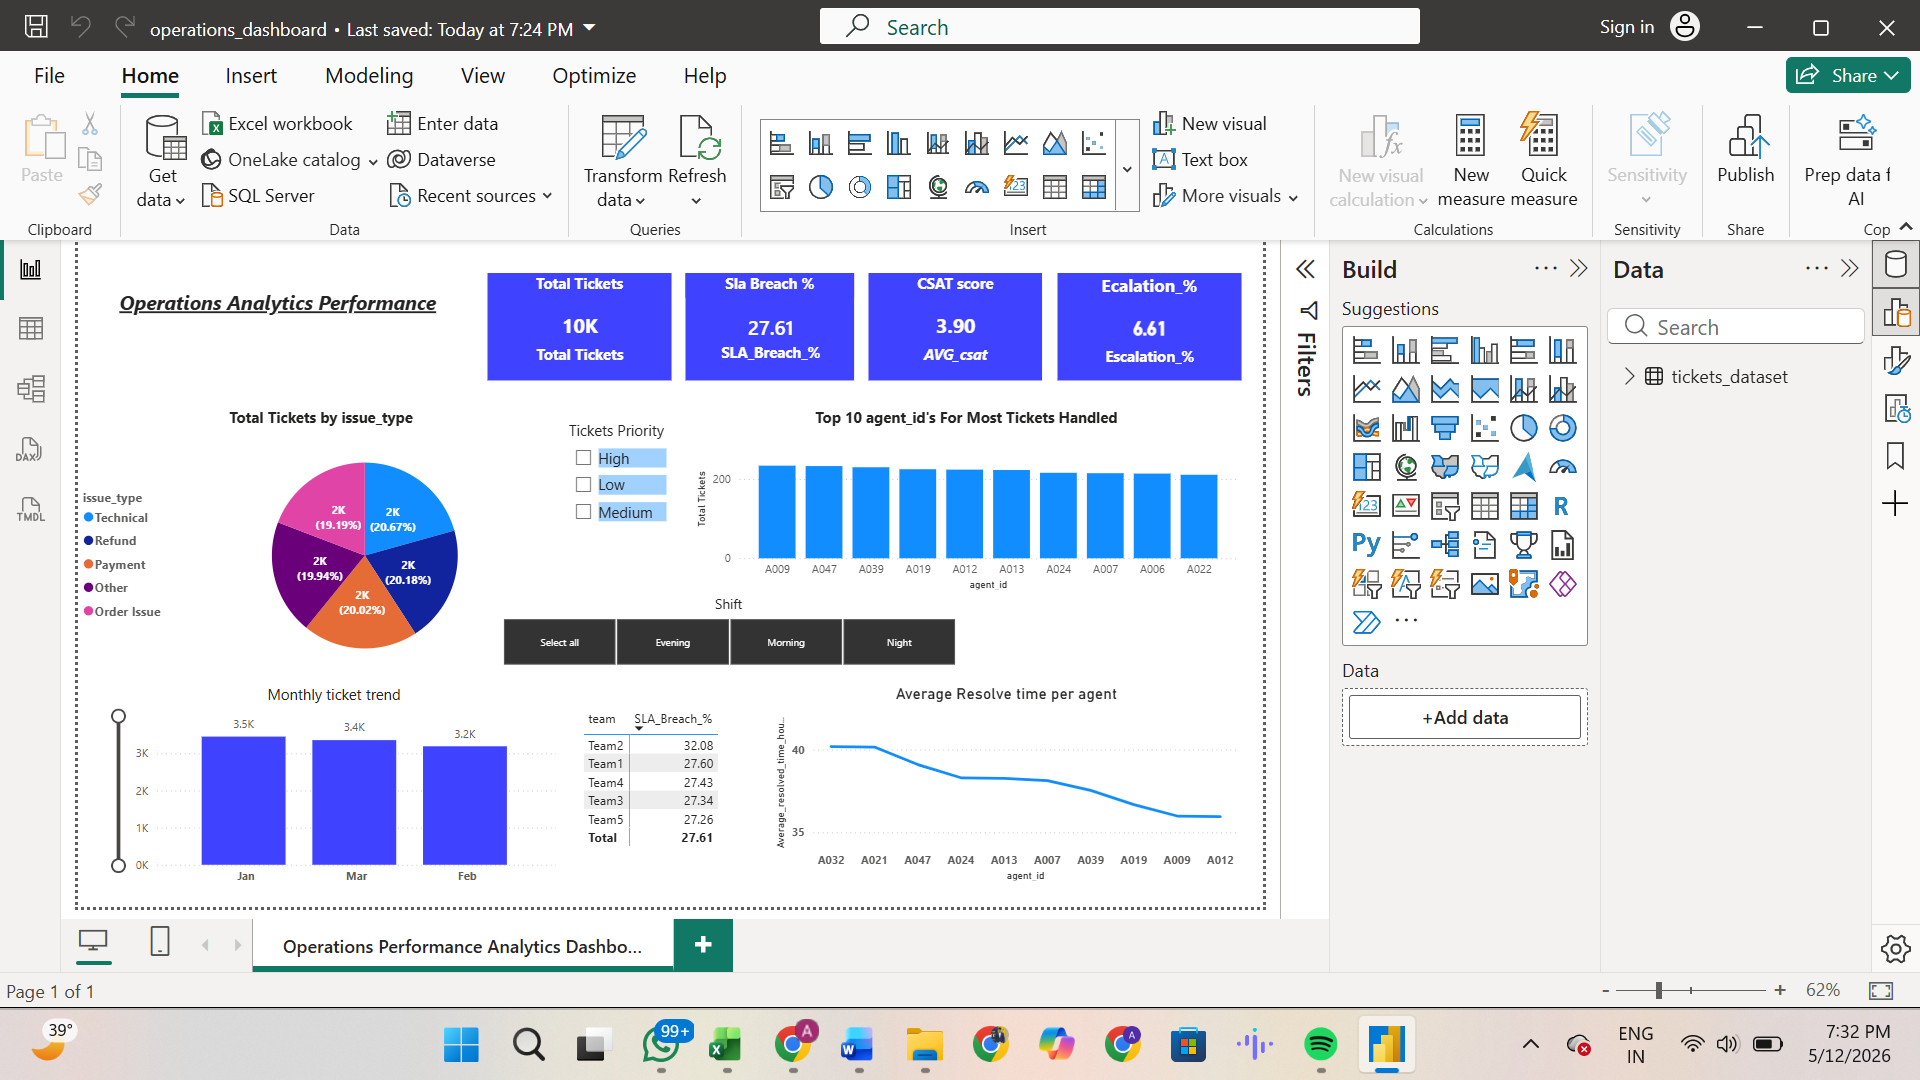

This screenshot's page, from the dashboard's own definition file:
{"tool":"powerbi","page":{"name":"Operations Performance Analytics Dashboard","canvas":[1280,720],"ordinal":0},"visuals":[{"type":"cardVisual","title":"Sla Breach %","fields":{"Data":["tickets_dataset.SLA_Breach_%"]},"box":[655.6,35.9,182.1,115.9],"z":0},{"type":"card","title":"CSAT score","fields":{"Values":["tickets_dataset.AVG_csat"]},"box":[853.3,35.9,187.6,115.9],"z":1000},{"type":"card","title":"Ecalation_%","fields":{"Values":["tickets_dataset.Escalation_%"]},"box":[1056.6,35.9,198.6,115.9],"z":2000},{"type":"card","title":"Total Tickets","fields":{"Values":["tickets_dataset.Total Tickets"]},"box":[441.4,35.9,198.6,115.9],"z":3000},{"type":"pieChart","fields":{"Category":["tickets_dataset.issue_type"],"Y":["tickets_dataset.Total Tickets"]},"box":[0,180.3,524.6,299.7],"z":4000},{"type":"columnChart","title":"Monthly ticket trend","fields":{"Category":["tickets_dataset.month"],"Y":["tickets_dataset.Total Tickets"]},"box":[32.4,480,488.1,224.8],"z":5000},{"type":"clusteredColumnChart","title":"Top 10 agent_id''s For Most Tickets Handled","fields":{"Category":["tickets_dataset.agent_id"],"Y":["tickets_dataset.Total Tickets"]},"box":[662.3,180.3,593.4,202.5],"z":6000},{"type":"pivotTable","fields":{"Rows":["tickets_dataset.team"],"Values":["tickets_dataset.SLA_Breach_%"]},"box":[540.8,500.3,170.1,204.6],"z":7000},{"type":"lineChart","title":"Average Resolve time per agent","fields":{"Category":["tickets_dataset.agent_id"],"Y":["tickets_dataset.Average_resolved_time_hours"]},"box":[747.3,480,508.4,216.7],"z":8000},{"type":"textbox","box":[32.4,46.6,366.6,46.6],"z":9000},{"type":"slicer","title":"Tickets Priority","fields":{"Values":["tickets_dataset.priority"]},"box":[524.6,194.4,115.4,121.5],"z":10000},{"type":"slicer","title":"Shift","fields":{"Values":["tickets_dataset.shift"]},"box":[433.4,382.8,536.7,83],"z":11000}]}

Visuals, with their boxes on the page's 1280x720 design canvas (x1, y1, x2, y2). These are canvas units, not pixel positions in the 1920x1080 screenshot, which may show the page scaled, cropped or inside an application window:
"Sla Breach %" cardVisual: [656,36,838,152]
"CSAT score" card: [853,36,1041,152]
"Ecalation_%" card: [1057,36,1255,152]
"Total Tickets" card: [441,36,640,152]
pieChart - tickets_dataset.issue_type x tickets_dataset.Total Tickets: [0,180,525,480]
"Monthly ticket trend" columnChart: [32,480,520,705]
"Top 10 agent_id''s For Most Tickets Handled" clusteredColumnChart: [662,180,1256,383]
pivotTable - tickets_dataset.team x tickets_dataset.SLA_Breach_%: [541,500,711,705]
"Average Resolve time per agent" lineChart: [747,480,1256,697]
textbox: [32,47,399,93]
"Tickets Priority" slicer: [525,194,640,316]
"Shift" slicer: [433,383,970,466]
